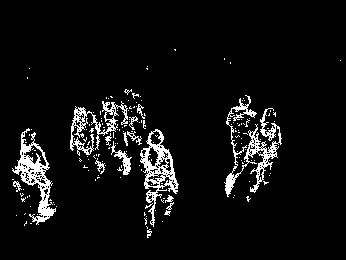person: (138, 129, 180, 241), (11, 127, 58, 225), (243, 106, 284, 202), (223, 91, 258, 196), (99, 95, 131, 178), (70, 106, 104, 175), (118, 88, 148, 148)
